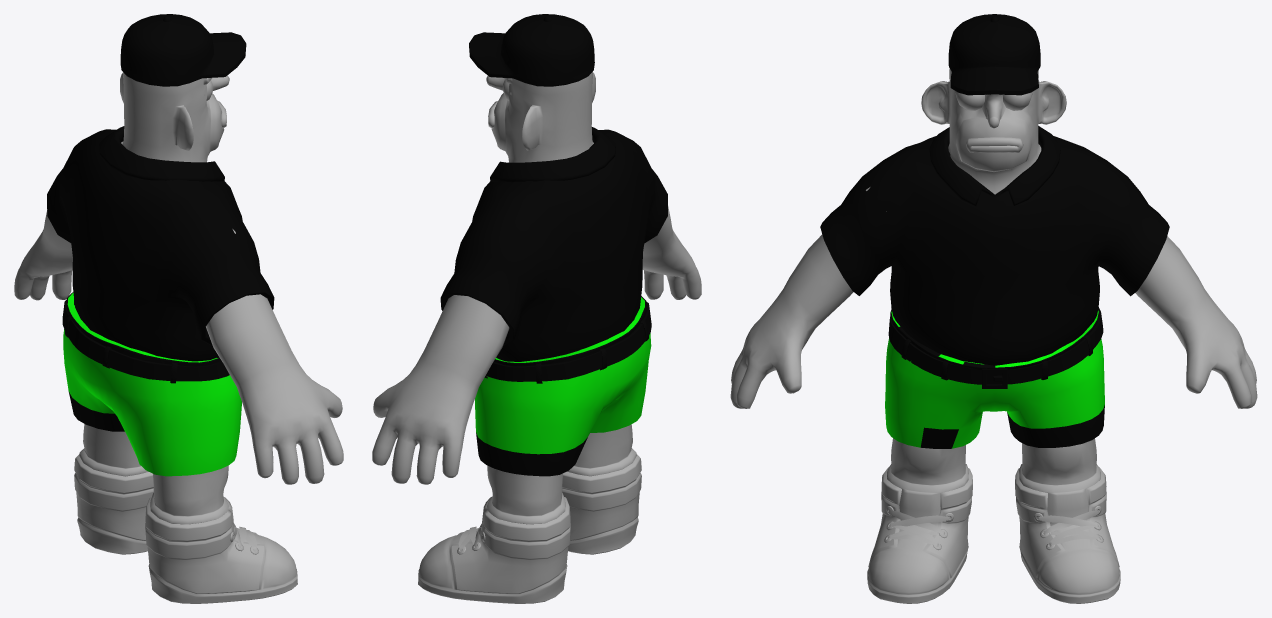
The model's file is jimmk4.fbx.
3 views of the same model, side by side, from view 1: azimuth 30°, elevation 25°; view 2: azimuth 150°, elevation 25°; view 3: azimuth 270°, elevation 25° (orthographic).
Parts seen in each view (by area): view 1: shorts1, pSphere4; view 2: shorts1, pSphere4; view 3: shorts1, pSphere4.
Part boxes in pixels (x1,y1,x2,y2): shorts1: (47,14,274,476); pSphere4: (14,72,343,603); shorts1: (440,14,667,476); pSphere4: (372,71,701,603); shorts1: (820,14,1169,448); pSphere4: (730,68,1257,603).
Size of the model in its own units: 4.98 by 15.39 by 13.44.
